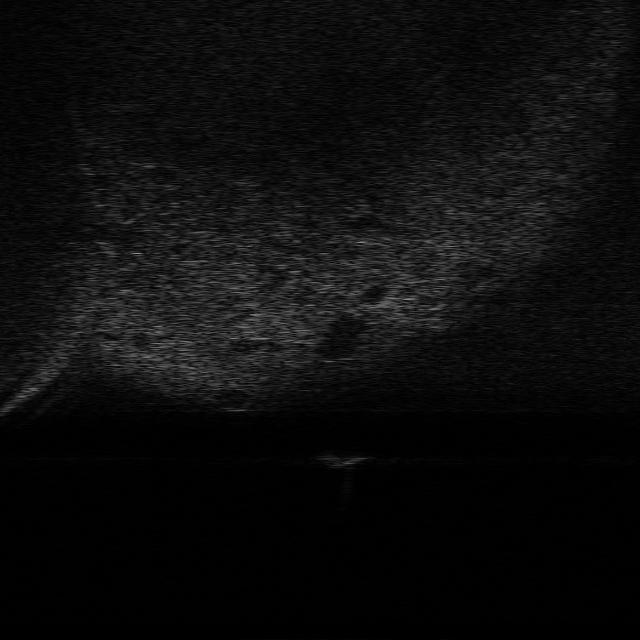cube: (319, 452, 369, 468)
